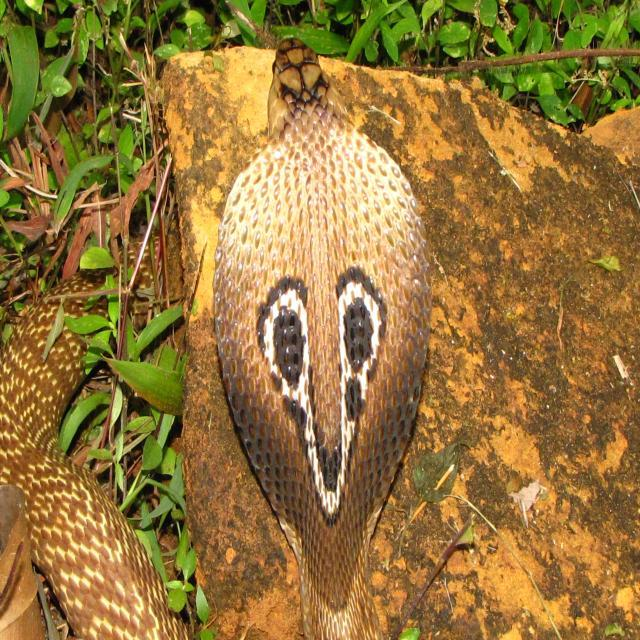Snake: (206, 28, 438, 640)
